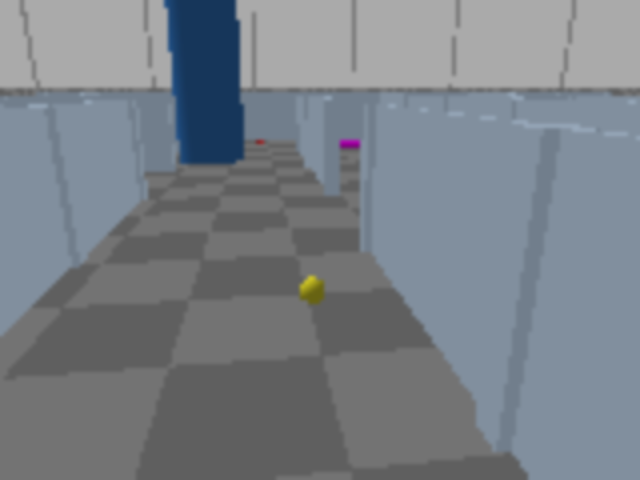puck: (294, 272, 330, 310)
